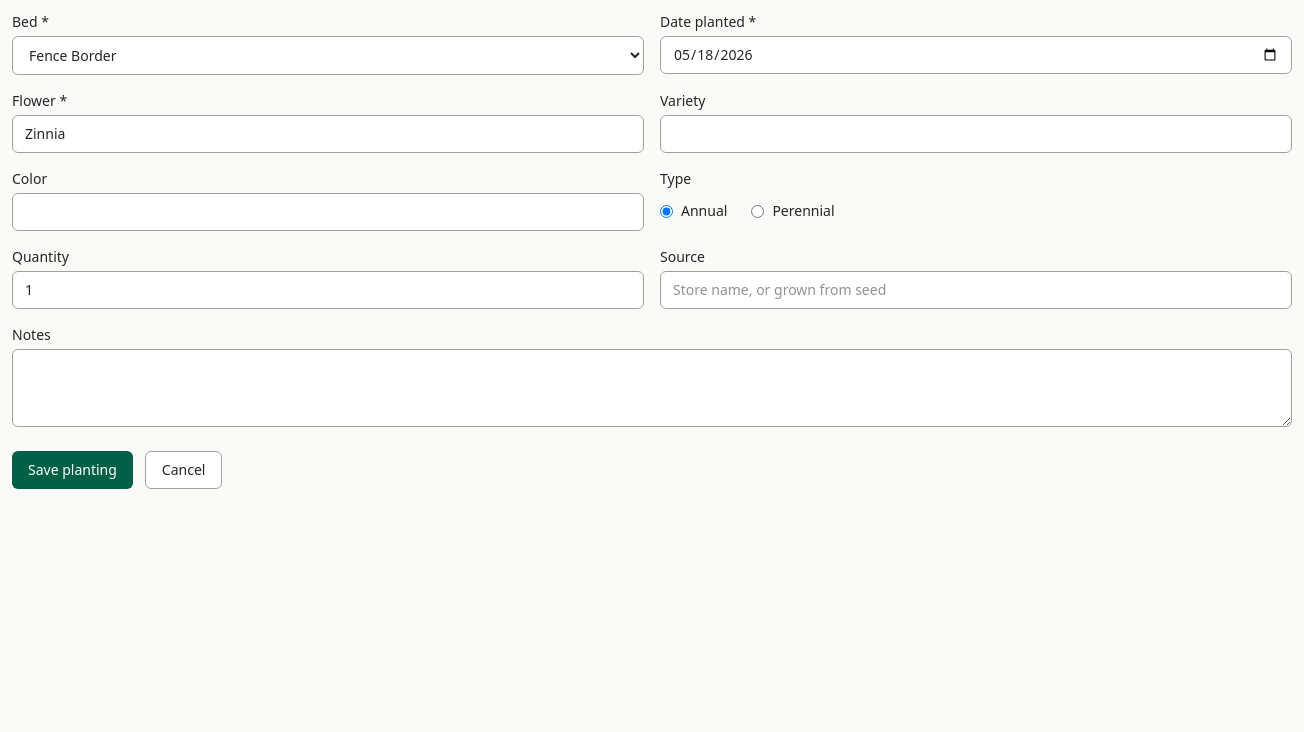
Test case: PlantingForm › shows an error the server returns
Click the button "Save planting".
click(72, 470)  # box [12,451,133,489]
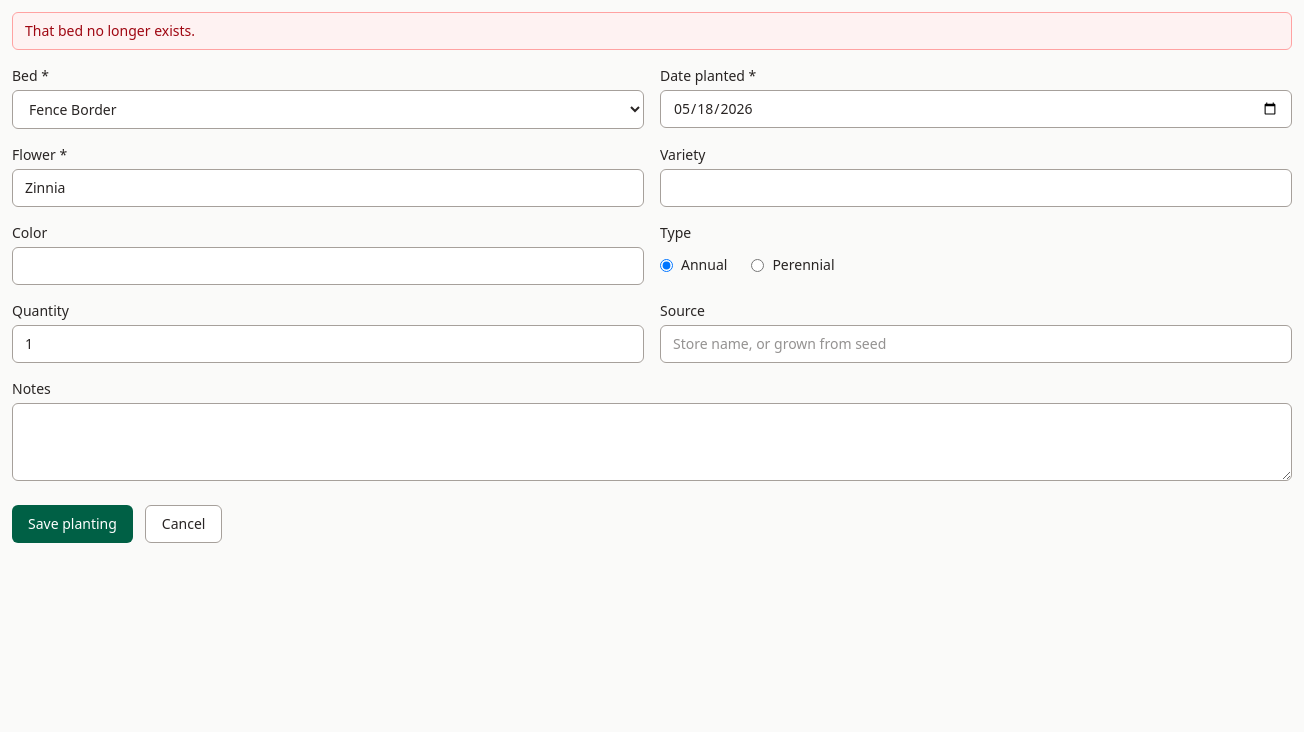
Check: the message reads "That bed no longer exists.", box [25,21,195,40]
